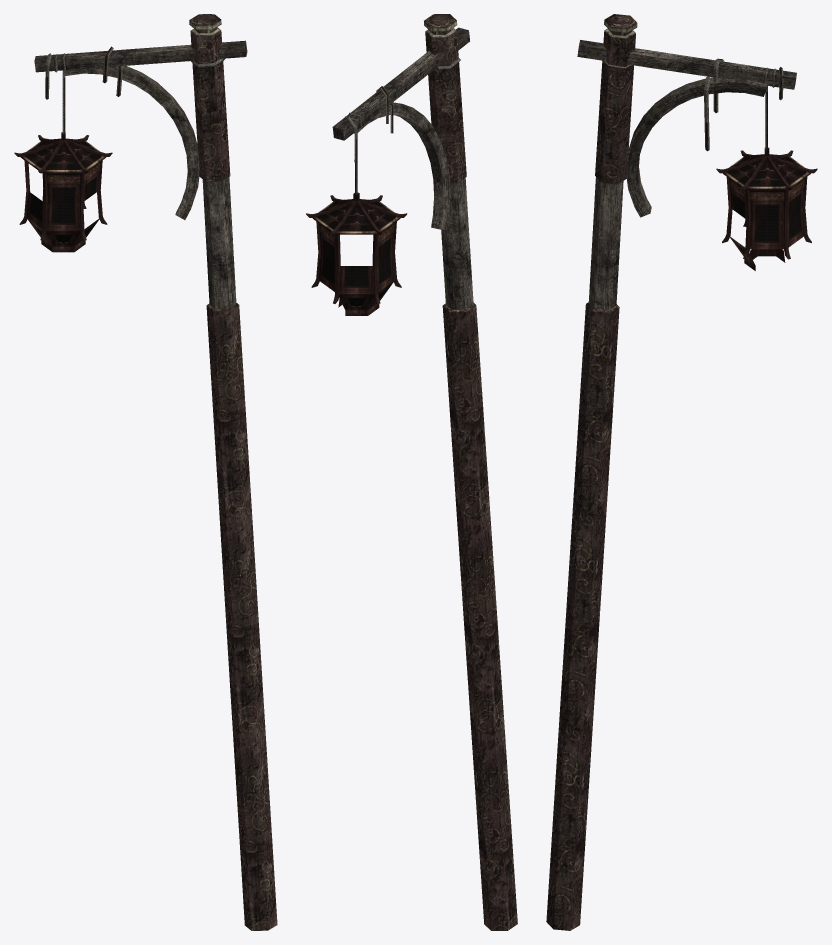
The model's file is TW2_9_ADDONS_12_8-transformed.glb.
3 renders of one model, left to right at view 1: azimuth 90°, elevation 25°; view 2: azimuth 150°, elevation 25°; view 3: azimuth 270°, elevation 25°, orthographic. The views are drawn at different scales.
Visible parts, largest first — view 1: default; view 2: default; view 3: default.
Part boxes in pixels (<box>): default: <box>14,14,277,930</box>; default: <box>306,14,517,930</box>; default: <box>546,14,817,930</box>.
Bounding box in the file's own units: 0.6293 × 5.88 × 1.56.
3 materials, 3 textured.
